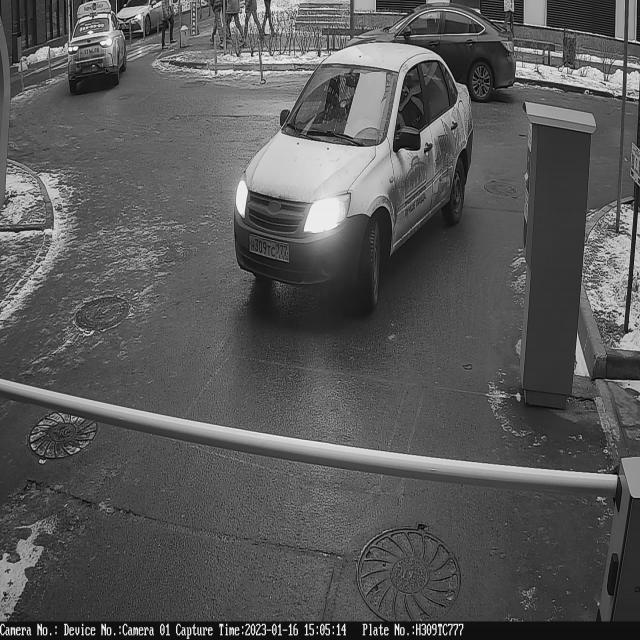car-plate-numbers: (248, 230, 292, 269)
